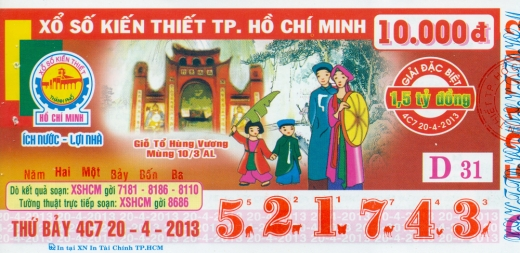serial_zone: (208, 190, 500, 243)
